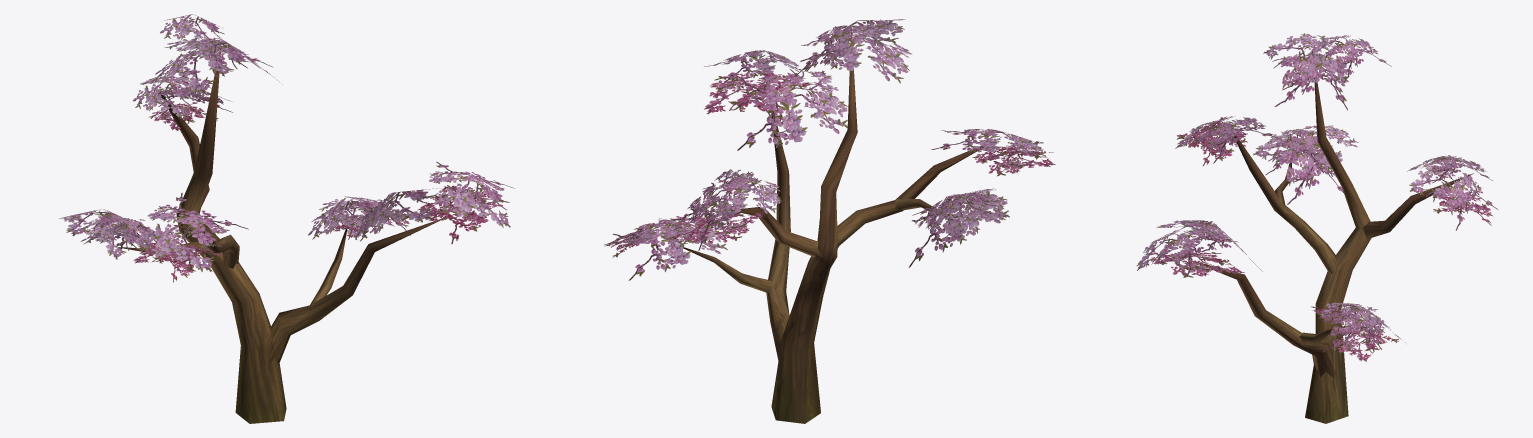
The model's file is environment_Tree_taoshu_001_g.FBX.
The picture shows the model from 3 angles, left to right: view 1: azimuth 30°, elevation 25°; view 2: azimuth 150°, elevation 25°; view 3: azimuth 270°, elevation 25°; orthographic projection. The views are drawn at different scales.
Visible parts, largest first — view 1: nvironment_Tree_taoshu_001_g_03, nvironment_Tree_taoshu_001_g_01; view 2: nvironment_Tree_taoshu_001_g_03, nvironment_Tree_taoshu_001_g_01; view 3: nvironment_Tree_taoshu_001_g_03, nvironment_Tree_taoshu_001_g_01.
Part boxes in pixels (x1=…): nvironment_Tree_taoshu_001_g_03: x1=59, y1=14, x2=514, y2=282; nvironment_Tree_taoshu_001_g_01: x1=116, y1=41, x2=441, y2=423; nvironment_Tree_taoshu_001_g_03: x1=604, y1=19, x2=1055, y2=280; nvironment_Tree_taoshu_001_g_01: x1=683, y1=32, x2=1001, y2=423; nvironment_Tree_taoshu_001_g_03: x1=1136, y1=33, x2=1497, y2=361; nvironment_Tree_taoshu_001_g_01: x1=1187, y1=76, x2=1473, y2=423.
Bounding box in the file's own units: 344 × 330 × 315.
Materials: 2 (2 with a texture image).
